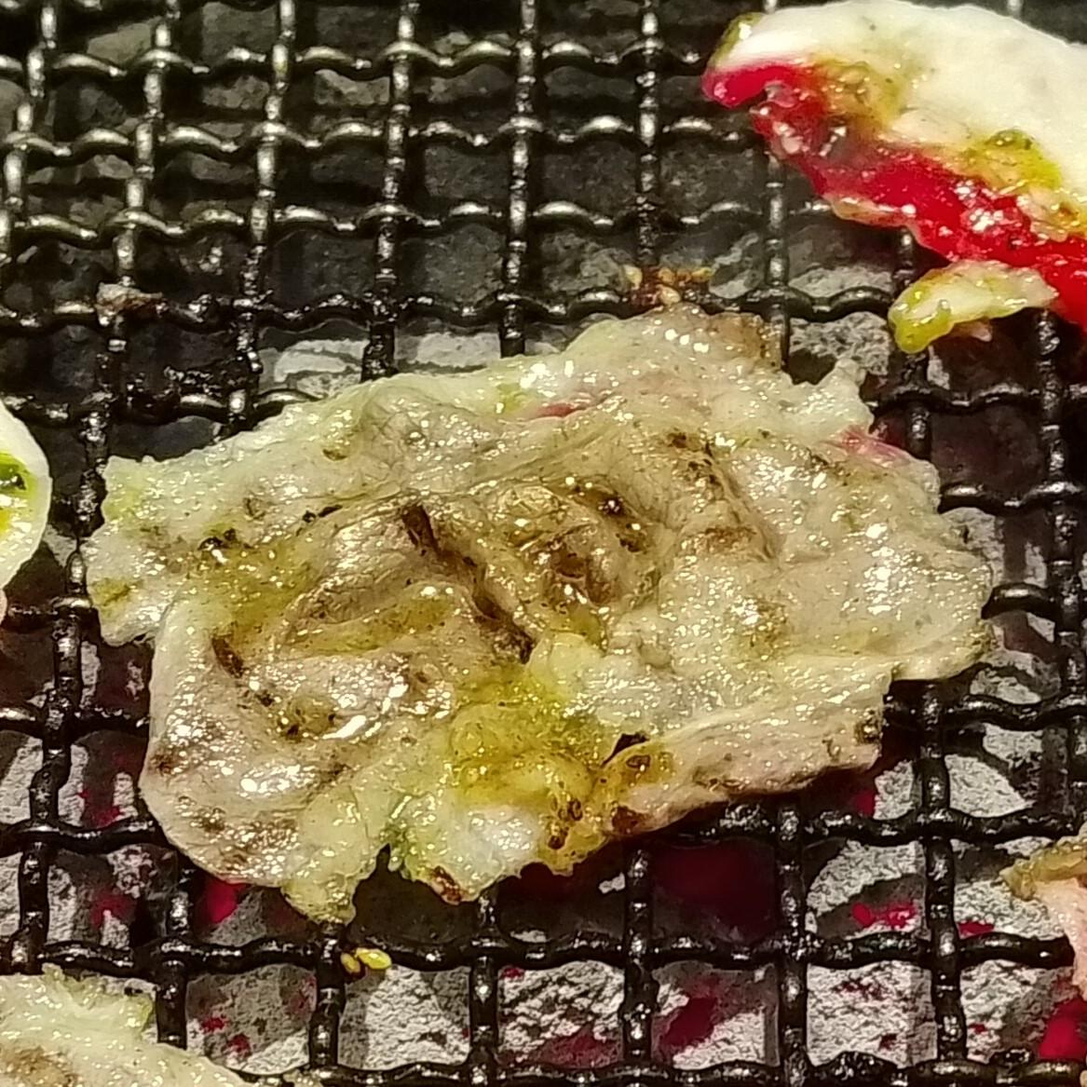Overcooked: (87, 306, 994, 923)
Undercooked: (699, 0, 1086, 342)
